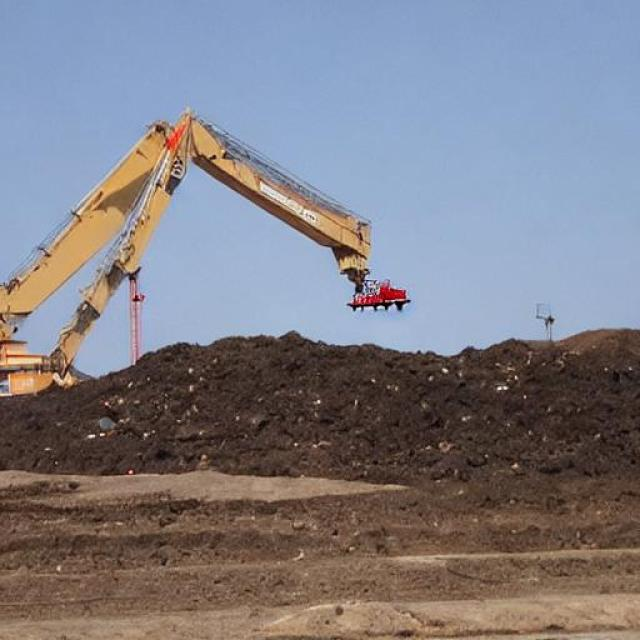crane: (153, 158, 563, 438)
excavator: (590, 313, 640, 428)
